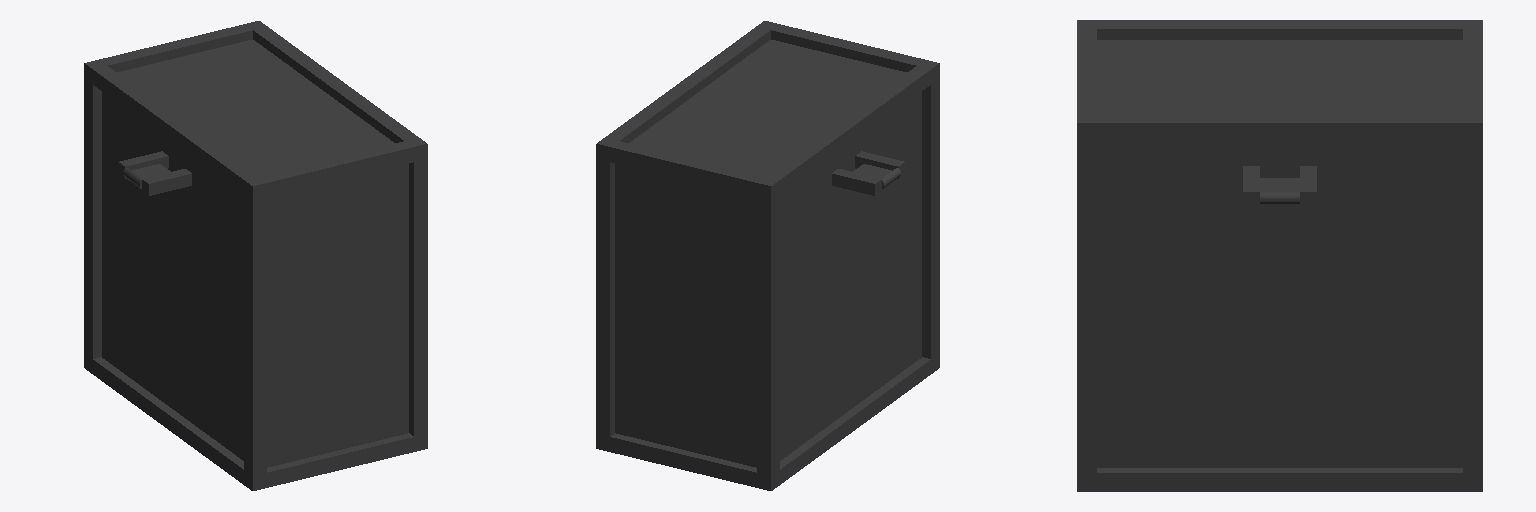
URDF robot description (box_description):
<?xml version="1.0" ?>
<!-- =================================================================================== -->
<!-- |    This document was autogenerated by xacro from src/legged_software/legged_interfaces/unitree_ros/robots/b1z1_description/xacro/slim_box_with_handles.xacro | -->
<!-- |    EDITING THIS FILE BY HAND IS NOT RECOMMENDED                                 | -->
<!-- =================================================================================== -->
<robot name="box_description">
  <!-- Material definitions -->
  <material name="dark_gray">
    <color rgba="0.3 0.3 0.3 0.5"/>
  </material>
  <!-- Box link -->
  <link name="box">
    <inertial>
      <mass value="1"/>
      <origin rpy="0 0 0" xyz="0 0 0"/>
      <inertia ixx="0.16670" ixy="0.0" ixz="0.0" iyy="0.16670" iyz="0.0" izz="0.16670"/>
    </inertial>
    <visual>
      <geometry>
        <mesh filename="package://ocs2_multi_robot/assets/robot/b1z1_description/meshes/slim_box.stl"/>
      </geometry>
      <origin rpy="0 0 0" xyz="0 0 0"/>
      <material name="dark_gray"/>
    </visual>
    <collision>
      <geometry>
        <mesh filename="package://ocs2_multi_robot/assets/robot/b1z1_description/meshes/slim_box.stl"/>
      </geometry>
      <origin rpy="0 0 0" xyz="0 0 0"/>
    </collision>
  </link>
  <!-- Add an IMU sensor to the box -->
  <!-- <gazebo reference="box">
    <sensor name="box_imu" type="imu">
      <update_rate>1000</update_rate> 
      <plugin filename="libgazebo_ros_imu.so" name="imu_plugin">
        <ros>
          <namespace>/box</namespace> 
          <remapping>
            <remap from="imu/data" to="box/imu/data"/> 
          </remapping>
        </ros>
        <frameName>box</frameName>
      </plugin>
      <pose>0 0 0 0 0 0</pose> 
    </sensor>
  </gazebo> -->
  <joint name="imu_joint" type="fixed">
    <parent link="box"/>
    <child link="box_imu_link"/>
    <origin rpy="0 0 0" xyz="0 0 0"/>
  </joint>
  <link name="box_imu_link">
    <inertial>
      <mass value="0.001"/>
      <origin rpy="0 0 0" xyz="0 0 0"/>
      <inertia ixx="0.0001" ixy="0" ixz="0" iyy="0.0001" iyz="0" izz="0.0001"/>
    </inertial>
    <visual>
      <origin rpy="0 0 0" xyz="0 0 0"/>
      <geometry>
        <box size="0.001 0.001 0.001"/>
      </geometry>
      <material name="red"/>
    </visual>
    <collision>
      <origin rpy="0 0 0" xyz="0 0 0"/>
      <geometry>
        <box size=".001 .001 .001"/>
      </geometry>
    </collision>
  </link>
  <gazebo reference="box_imu_link">
    <gravity>true</gravity>
    <sensor name="imu_sensor" type="imu">
      <always_on>true</always_on>
      <update_rate>1000</update_rate>
      <visualize>true</visualize>
      <topic>__default_topic__</topic>
      <plugin filename="libgazebo_ros_imu_sensor.so" name="imu_plugin">
        <topicName>cargo_imu</topicName>
        <bodyName>imu_link</bodyName>
        <updateRateHZ>1000.0</updateRateHZ>
        <gaussianNoise>0.0</gaussianNoise>
        <xyzOffset>0 0 0</xyzOffset>
        <rpyOffset>0 0 0</rpyOffset>
        <frameName>imu_link</frameName>
      </plugin>
      <pose>0 0 0 0 0 0</pose>
    </sensor>
  </gazebo>
  <!-- Left handle -->
  <link name="left_handle">
    <inertial>
      <mass value="0.01"/>
      <origin rpy="1.5708 0 1.5708" xyz="0 0 0"/>
      <inertia ixx="0.001" ixy="0.0" ixz="0.0" iyy="0.001" iyz="0.0" izz="0.001"/>
    </inertial>
    <visual>
      <geometry>
        <mesh filename="package://ocs2_multi_robot/assets/robot/b1z1_description/meshes/handle.STL" scale="0.001 0.001 0.001"/>
      </geometry>
      <origin rpy="1.5708 0 1.5708" xyz="0 0 0"/>
      <material name="dark_gray"/>
    </visual>
    <collision>
      <geometry>
        <mesh filename="package://ocs2_multi_robot/assets/robot/b1z1_description/meshes/handle.STL" scale="0.001 0.001 0.001"/>
      </geometry>
      <origin rpy="1.5708 0 1.5708" xyz="0 0 0"/>
    </collision>
  </link>
  <!-- Add Gazebo friction properties -->
  <gazebo reference="left_handle">
    <material>Gazebo/DarkGrey</material>
    <mu1>1.5</mu1>
    <!-- Friction coefficient in first direction -->
    <mu2>1.5</mu2>
    <!-- Friction coefficient in second direction -->
    <kp>1000000.0</kp>
    <!-- Contact stiffness -->
    <kd>100.0</kd>
    <!-- Contact damping -->
    <minDepth>0.001</minDepth>
    <maxVel>0.1</maxVel>
  </gazebo>
  <!-- Right handle -->
  <link name="right_handle">
    <inertial>
      <mass value="0.01"/>
      <origin rpy="1.5708 0 -1.5708" xyz="0 0 0"/>
      <inertia ixx="0.001" ixy="0.0" ixz="0.0" iyy="0.001" iyz="0.0" izz="0.001"/>
    </inertial>
    <visual>
      <geometry>
        <mesh filename="package://ocs2_multi_robot/assets/robot/b1z1_description/meshes/handle.STL" scale="0.001 0.001 0.001"/>
      </geometry>
      <origin rpy="1.5708 0 -1.5708" xyz="0 0 0"/>
      <material name="dark_gray"/>
    </visual>
    <collision>
      <geometry>
        <mesh filename="package://ocs2_multi_robot/assets/robot/b1z1_description/meshes/handle.STL" scale="0.001 0.001 0.001"/>
      </geometry>
      <origin rpy="1.5708 0 -1.5708" xyz="0 0 0"/>
    </collision>
  </link>
  <!-- Add Gazebo friction properties -->
  <gazebo reference="right_handle">
    <material>Gazebo/DarkGrey</material>
    <mu1>1.5</mu1>
    <!-- Friction coefficient in first direction -->
    <mu2>1.5</mu2>
    <!-- Friction coefficient in second direction -->
    <kp>1000000.0</kp>
    <!-- Contact stiffness -->
    <kd>100.0</kd>
    <!-- Contact damping -->
    <minDepth>0.001</minDepth>
    <maxVel>0.1</maxVel>
  </gazebo>
  <!-- Left handle end cube 1 -->
  <link name="left_handle_cube1">
    <inertial>
      <mass value="0.001"/>
      <origin rpy="0 0 0" xyz="0 0 0"/>
      <inertia ixx="0.0001" ixy="0.0" ixz="0.0" iyy="0.0001" iyz="0.0" izz="0.0001"/>
    </inertial>
    <visual>
      <geometry>
        <box size="0.15 0.04 0.04"/>
      </geometry>
      <origin rpy="0 0 0" xyz="0.055 0 0"/>
      <material name="dark_gray"/>
    </visual>
    <collision>
      <geometry>
        <box size="0.15 0.04 0.04"/>
      </geometry>
      <origin rpy="0 0 0" xyz="0.055 0 0"/>
    </collision>
  </link>
  <!-- Left handle end cube 2 -->
  <link name="left_handle_cube2">
    <inertial>
      <mass value="0.001"/>
      <origin rpy="0 0 0" xyz="0 0 0"/>
      <inertia ixx="0.0001" ixy="0.0" ixz="0.0" iyy="0.0001" iyz="0.0" izz="0.0001"/>
    </inertial>
    <visual>
      <geometry>
        <box size="0.15 0.04 0.04"/>
      </geometry>
      <origin rpy="0 0 0" xyz="0.055 0 0"/>
      <material name="dark_gray"/>
    </visual>
    <collision>
      <geometry>
        <box size="0.15 0.04 0.04"/>
      </geometry>
      <origin rpy="0 0 0" xyz="0.055 0 0"/>
    </collision>
  </link>
  <!-- Right handle end cube 1 -->
  <link name="right_handle_cube1">
    <inertial>
      <mass value="0.001"/>
      <origin rpy="0 0 0" xyz="0 0 0"/>
      <inertia ixx="0.0001" ixy="0.0" ixz="0.0" iyy="0.0001" iyz="0.0" izz="0.0001"/>
    </inertial>
    <visual>
      <geometry>
        <box size="0.15 0.04 0.04"/>
      </geometry>
      <origin rpy="0 0 0" xyz="-0.055 0 0"/>
      <material name="dark_gray"/>
    </visual>
    <collision>
      <geometry>
        <box size="0.15 0.04 0.04"/>
      </geometry>
      <origin rpy="0 0 0" xyz="-0.055 0 0"/>
    </collision>
  </link>
  <!-- Right handle end cube 2 -->
  <link name="right_handle_cube2">
    <inertial>
      <mass value="0.001"/>
      <origin rpy="0 0 0" xyz="0 0 0"/>
      <inertia ixx="0.0001" ixy="0.0" ixz="0.0" iyy="0.0001" iyz="0.0" izz="0.0001"/>
    </inertial>
    <visual>
      <geometry>
        <box size="0.15 0.04 0.04"/>
      </geometry>
      <origin rpy="0 0 0" xyz="-0.055 0 0"/>
      <material name="dark_gray"/>
    </visual>
    <collision>
      <geometry>
        <box size="0.15 0.04 0.04"/>
      </geometry>
      <origin rpy="0 0 0" xyz="-0.055 0 0"/>
    </collision>
  </link>
  <!-- Joints -->
  <joint name="left_handle_joint" type="fixed">
    <parent link="box"/>
    <child link="left_handle"/>
    <origin rpy="0 0 0" xyz="-0.4 0 0.35"/>
    <dynamics friction="0.8"/>
  </joint>
  <joint name="right_handle_joint" type="fixed">
    <parent link="box"/>
    <child link="right_handle"/>
    <origin rpy="0 0 0" xyz="0.4 0 0.35"/>
    <dynamics friction="0.8"/>
  </joint>
  <!-- Left handle cube joints -->
  <joint name="left_handle_cube1_joint" type="fixed">
    <parent link="left_handle"/>
    <child link="left_handle_cube1"/>
    <origin rpy="0 0 0" xyz="0 0.07 0"/>
  </joint>
  <joint name="left_handle_cube2_joint" type="fixed">
    <parent link="left_handle"/>
    <child link="left_handle_cube2"/>
    <origin rpy="0 0 0" xyz="0 -0.07 0"/>
  </joint>
  <!-- Right handle cube joints -->
  <joint name="right_handle_cube1_joint" type="fixed">
    <parent link="right_handle"/>
    <child link="right_handle_cube1"/>
    <origin rpy="0 0 0" xyz="0 0.07 0"/>
  </joint>
  <joint name="right_handle_cube2_joint" type="fixed">
    <parent link="right_handle"/>
    <child link="right_handle_cube2"/>
    <origin rpy="0 0 0" xyz="0 -0.07 0"/>
  </joint>
</robot>

--- Facts derived from the render (not from the file) ---
The picture shows the robot from 3 angles, left to right: view 1: azimuth 30°, elevation 25°; view 2: azimuth 150°, elevation 25°; view 3: azimuth 270°, elevation 25°; orthographic projection.
Robot: box_description — 8 links, 7 joints (7 fixed); root link box; default pose: every joint at zero.
Visible links, largest first — view 1: box, left_handle_cube2, left_handle_cube1; view 2: box, left_handle_cube1, left_handle_cube2; view 3: box, right_handle, right_handle_cube1, right_handle_cube2.
Link boxes in pixels (bbox=[...]): box: bbox=[84, 21, 427, 490]; left_handle_cube2: bbox=[142, 169, 191, 195]; left_handle_cube1: bbox=[118, 151, 168, 178]; box: bbox=[596, 21, 939, 490]; left_handle_cube1: bbox=[832, 169, 881, 195]; left_handle_cube2: bbox=[855, 151, 905, 178]; box: bbox=[1077, 20, 1482, 491]; right_handle: bbox=[1260, 178, 1299, 204]; right_handle_cube1: bbox=[1300, 166, 1316, 206]; right_handle_cube2: bbox=[1243, 166, 1259, 206].
Bounding box of the posed robot: 0.855 × 1 × 1 m (x, y, z).
Meshes: 2 distinct files referenced, 3 mesh visuals loaded (2 binary STL).
